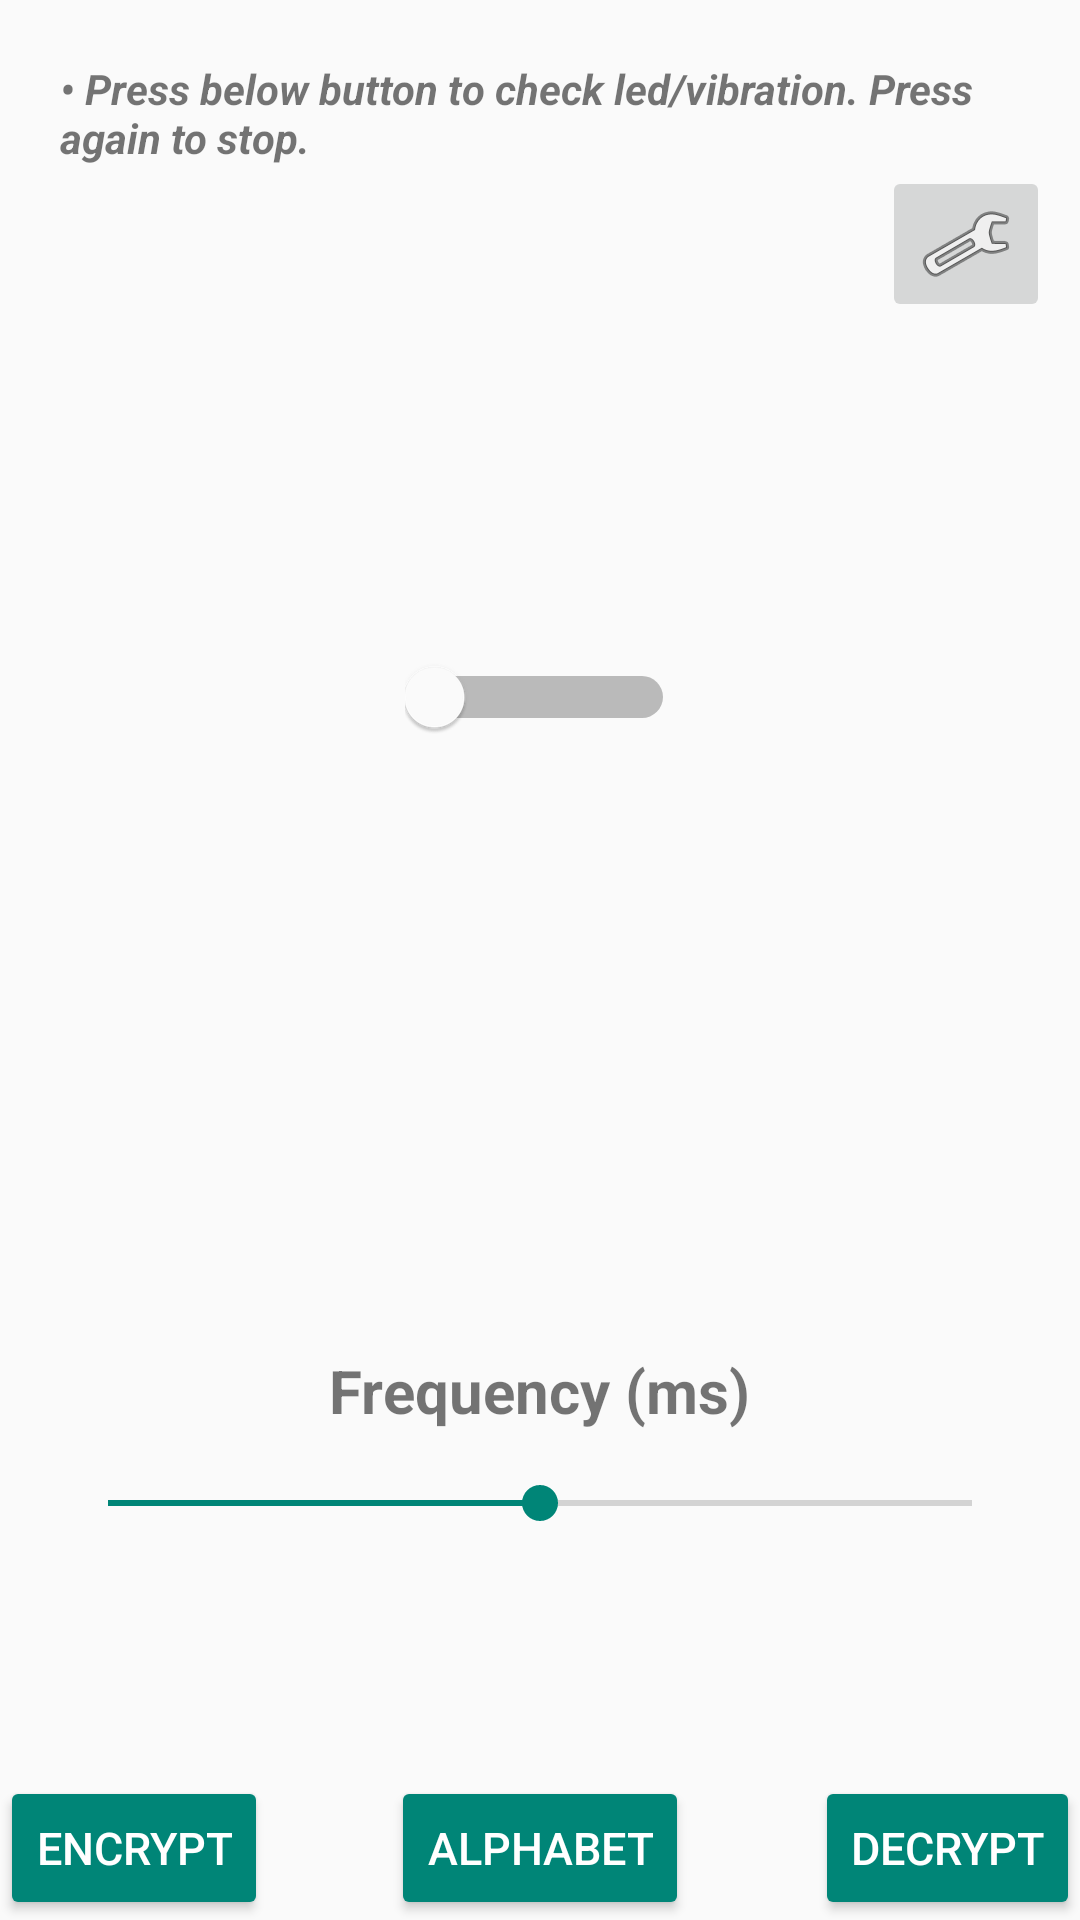

Icons on this 1080px×1920px Android screen, each with its box as bbox=[x1, y1, x2, y2]:
manage: bbox=[894, 184, 1038, 304]
